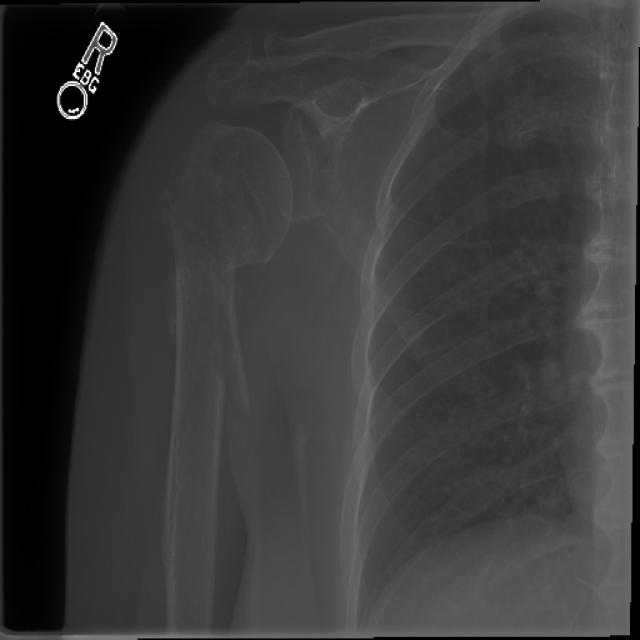shoulder fracture: (202, 317, 265, 442)
